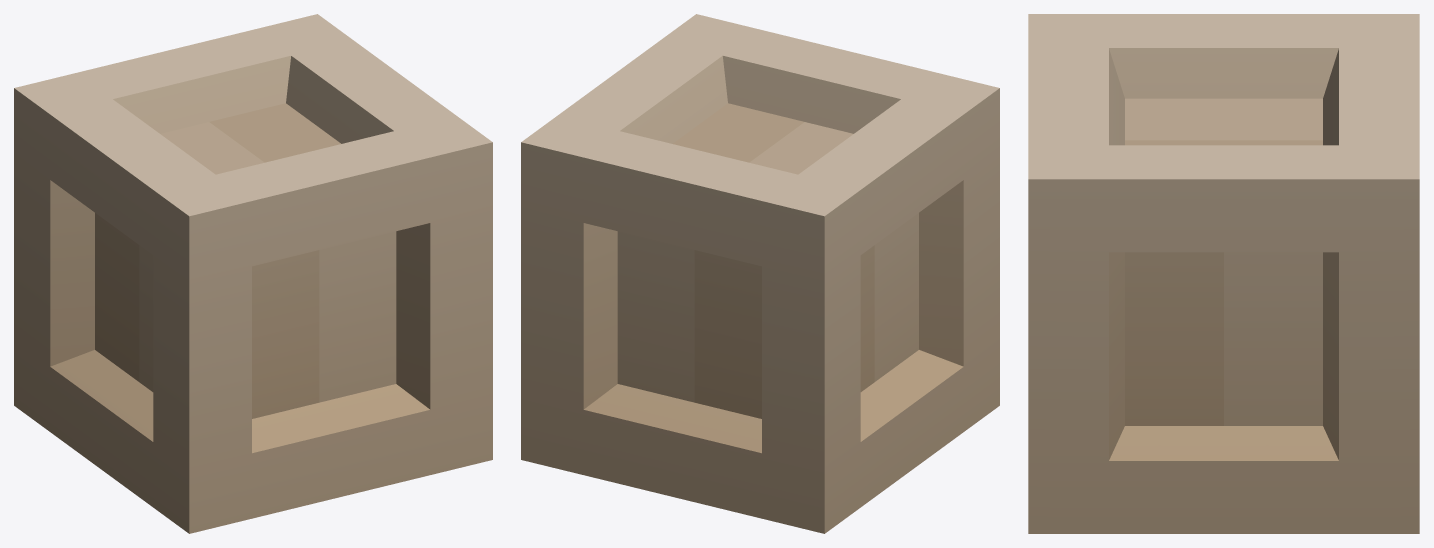
File: kk_crate_small.glb
The picture shows the model from 3 angles, left to right: view 1: azimuth 30°, elevation 25°; view 2: azimuth 150°, elevation 25°; view 3: azimuth 270°, elevation 25°; orthographic projection. The views are drawn at different scales.
Parts seen in each view (by area): view 1: crate_B_small; view 2: crate_B_small; view 3: crate_B_small.
Boxes of the visible parts, x1,y1,x2,y2 form: crate_B_small: (14,14,492,533); crate_B_small: (521,14,999,533); crate_B_small: (1028,14,1419,533).
Size of the model in its own units: 0.14 by 0.14 by 0.14.
Materials: 1 (1 with a texture image).
